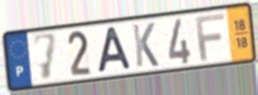2: (67, 29, 93, 77)
4: (167, 16, 193, 66)
7: (32, 31, 59, 84)
A: (97, 25, 134, 75)
F: (193, 12, 226, 63)
K: (131, 22, 160, 69)
